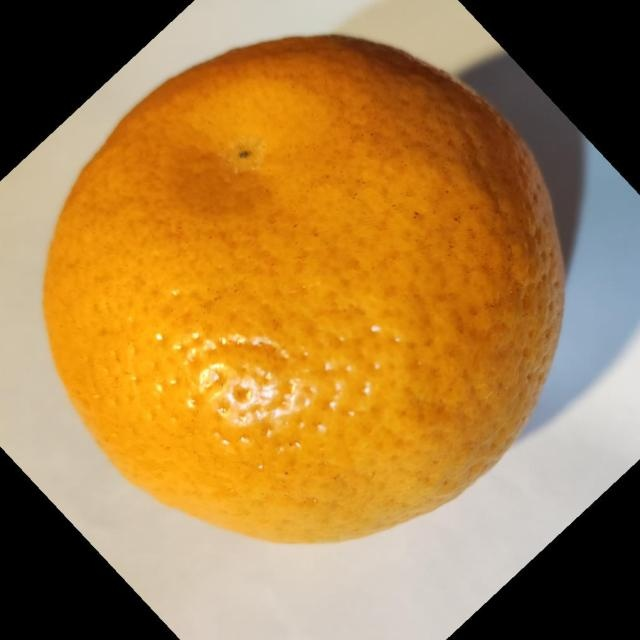agrume: (41, 32, 567, 545)
